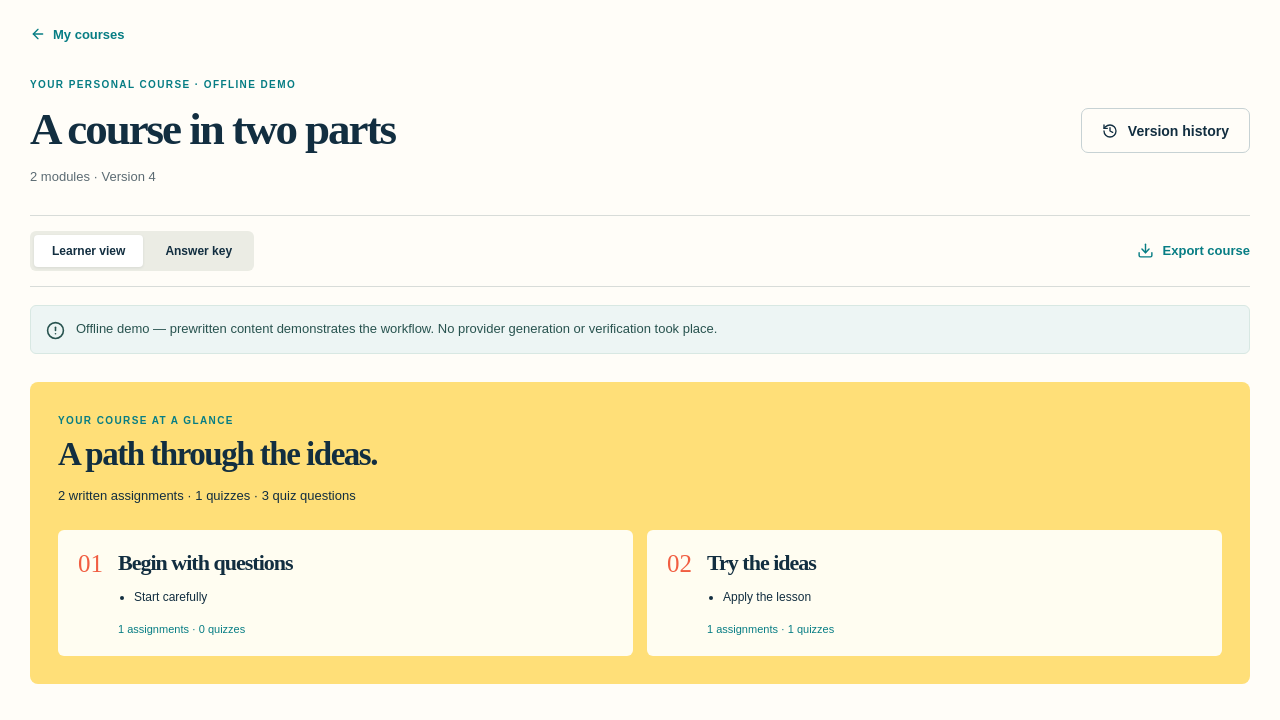
Test: complete course workflow › restores a selected version through the backend and leaves generation untouched
Click the button "Version history": (1165, 131) [1081,108,1250,153]
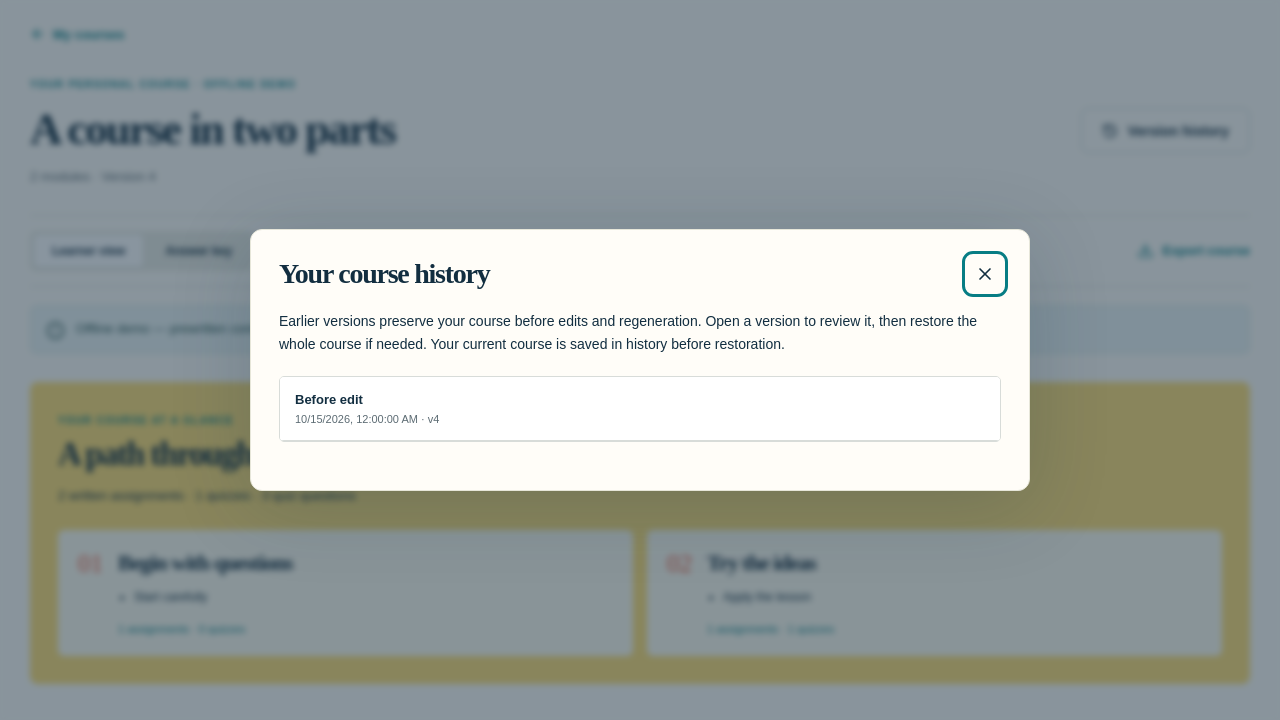
Click the button "Before edit 10/15/2026, 12:00:00 AM · v4": (329, 400) [280,377,1000,441]
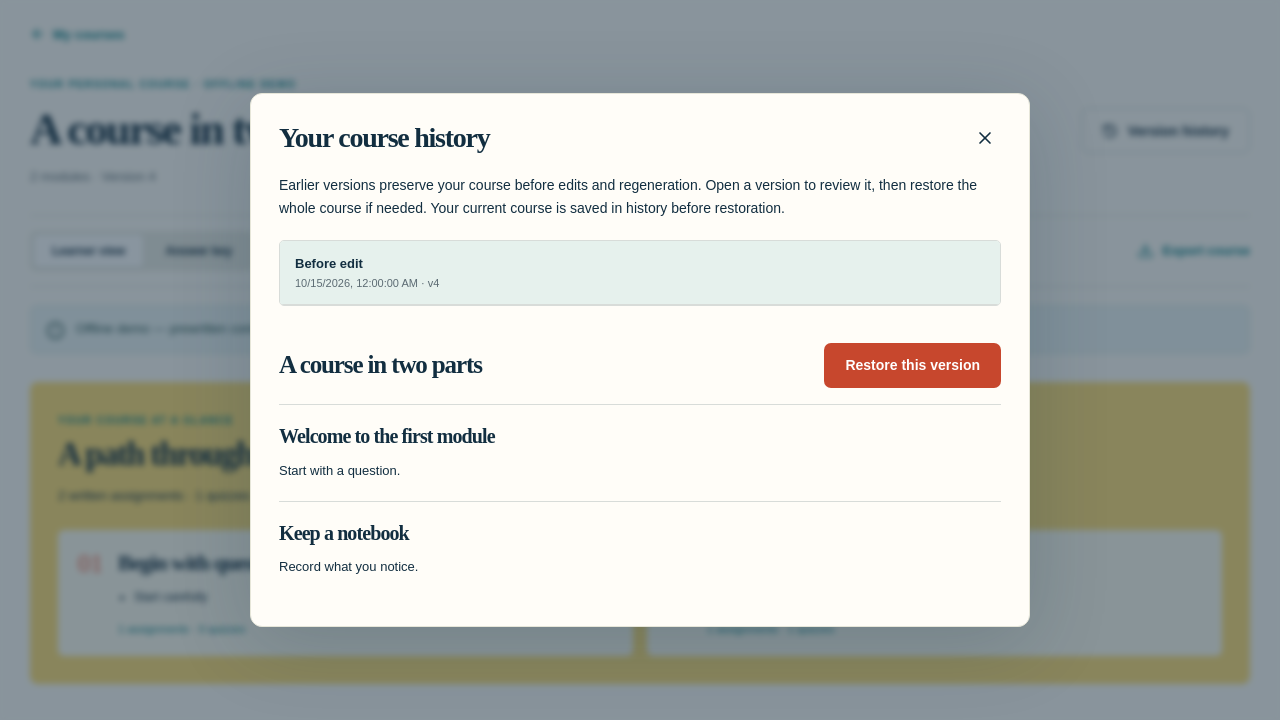
Click the button "Restore this version": (913, 365) [824,343,1001,388]
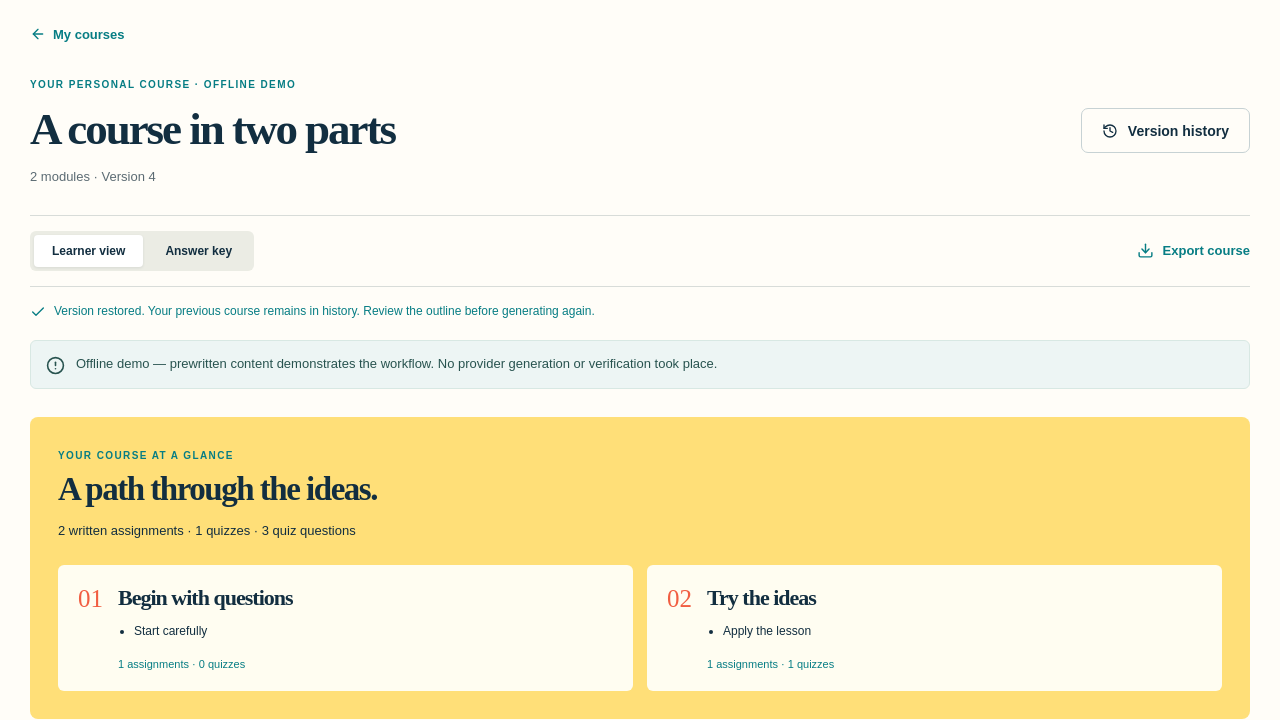
Expected: the dialog is gone
